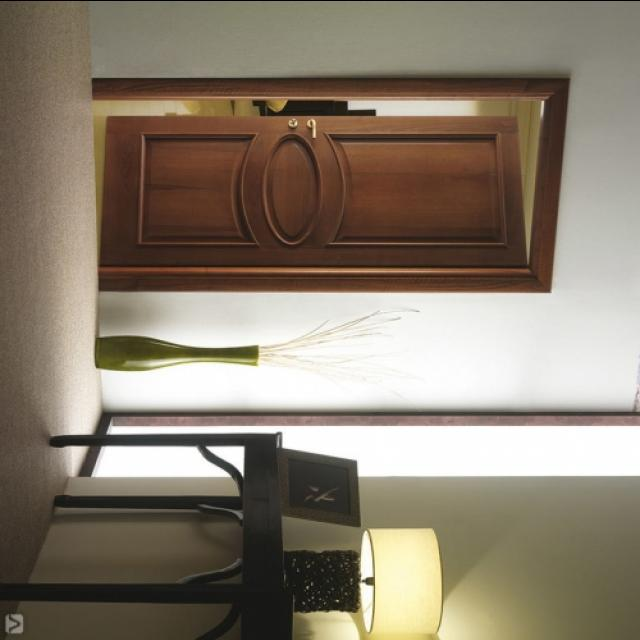open: (99, 84, 565, 285)
